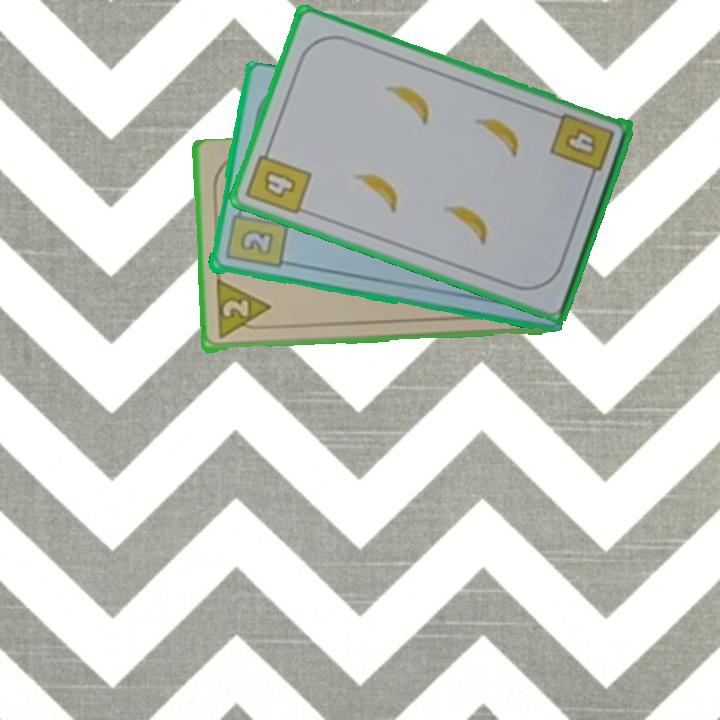2b: (222, 202, 290, 272)
2p: (212, 279, 273, 342)
4b: (242, 141, 315, 218), (546, 109, 617, 186)
